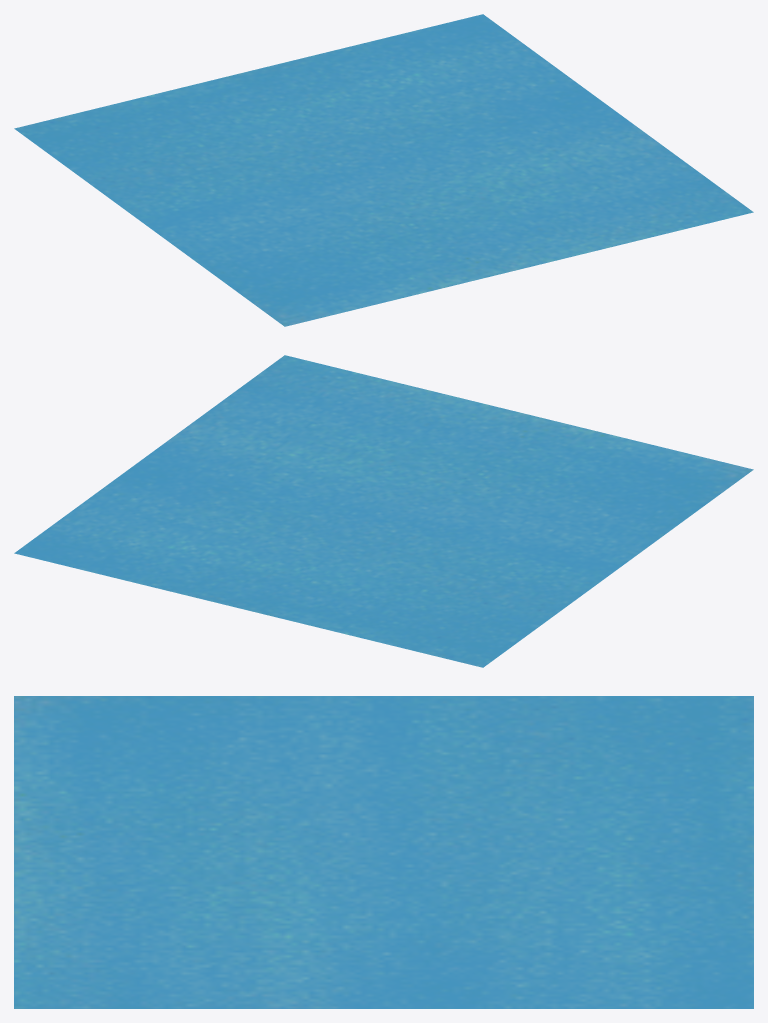
Rendered from water.obj.
3 views of the same model, one above another, from view 1: azimuth 30°, elevation 25°; view 2: azimuth 150°, elevation 25°; view 3: azimuth 270°, elevation 25° (orthographic). The views are drawn at different scales.
Visible parts, largest first — view 1: water; view 2: water; view 3: water.
Boxes of the visible parts, bbox=[...] form: water: bbox=[14, 14, 753, 326]; water: bbox=[14, 355, 753, 667]; water: bbox=[14, 696, 753, 1008].
Size of the model in its own units: 2 by 0 by 2.
